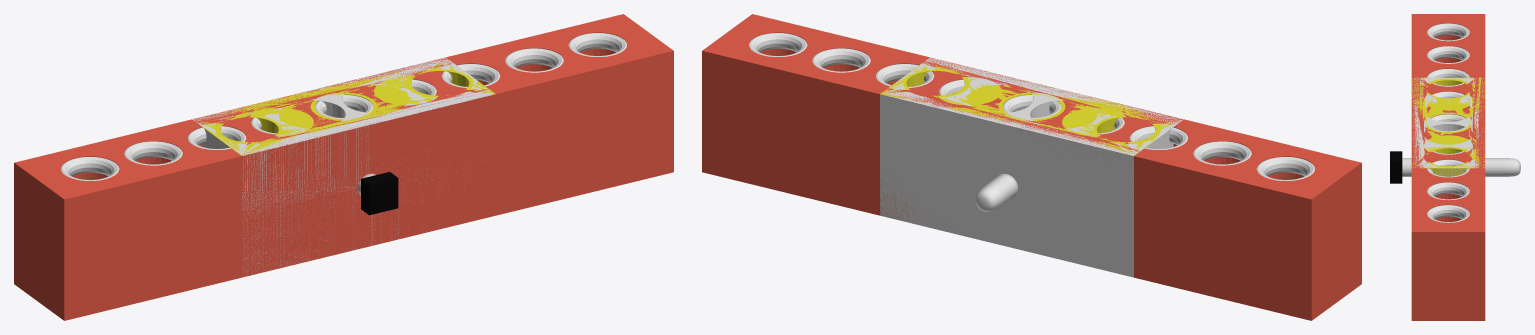
The model's file is tube_with_cube.glb.
The picture shows the model from 3 angles, left to right: view 1: azimuth 30°, elevation 25°; view 2: azimuth 150°, elevation 25°; view 3: azimuth 270°, elevation 25°; orthographic projection. The views are drawn at different scales.
Visible parts, largest first — view 1: Cube, Cube.006, Cube.007, 立方体.005, 立方体, 环体.012, 环体.008, 0.07 m.001, 0.07 m, 环体.005, 环体.004, 环体; view 2: Cube, Cube.006, 立方体.005, Cube.007, Tubo_de_ensayo1.001_Cilindro.008, 环体.012, 环体.008, 0.07 m.001, 0.07 m, 环体.005, 环体.004, 环体; view 3: Cube, Cube.007, Cube.006, 立方体.005, Tubo_de_ensayo1.001_Cilindro.008, 0.07 m.001, 环体.008, 0.07 m, 环体.012, 立方体, 环体.004, 环体.005 (+2 smaller).
Part boxes in pixels (box(x1,y1,x2,y2)): Cube: box(14, 14, 673, 320); Cube.006: box(192, 57, 493, 277); Cube.007: box(200, 63, 495, 155); 立方体.005: box(56, 30, 631, 227); 立方体: box(361, 172, 398, 215); 环体.012: box(505, 48, 563, 72); 环体.008: box(124, 141, 182, 165); 0.07 m.001: box(61, 157, 119, 180); 0.07 m: box(568, 33, 626, 56); 环体.005: box(441, 64, 500, 87); 环体.004: box(188, 126, 246, 149); 环体: box(314, 95, 373, 118); Cube: box(702, 14, 1361, 320); Cube.006: box(880, 57, 1183, 277); 立方体.005: box(744, 30, 1319, 320); Cube.007: box(880, 64, 1173, 153); Tubo_de_ensayo1.001_Cilindro.008: box(975, 173, 1018, 211); 环体.012: box(812, 48, 870, 72); 环体.008: box(1193, 141, 1251, 165); 0.07 m.001: box(1256, 157, 1314, 180); 0.07 m: box(749, 33, 807, 56); 环体.005: box(875, 64, 934, 87); 环体.004: box(1129, 126, 1187, 149); 环体: box(1002, 95, 1061, 118); Cube: box(1411, 14, 1485, 320); Cube.007: box(1411, 77, 1485, 176); Cube.006: box(1412, 77, 1485, 176); 立方体.005: box(1424, 21, 1483, 318); Tubo_de_ensayo1.001_Cilindro.008: box(1402, 158, 1520, 176); 0.07 m.001: box(1427, 23, 1469, 41); 环体.008: box(1427, 46, 1469, 63); 0.07 m: box(1427, 205, 1469, 222); 环体.012: box(1427, 182, 1469, 200); 立方体: box(1390, 151, 1402, 183); 环体.004: box(1427, 69, 1469, 86); 环体.005: box(1427, 159, 1469, 177).
Size of the model in its own units: 0.84 by 0.16 by 0.2131.
